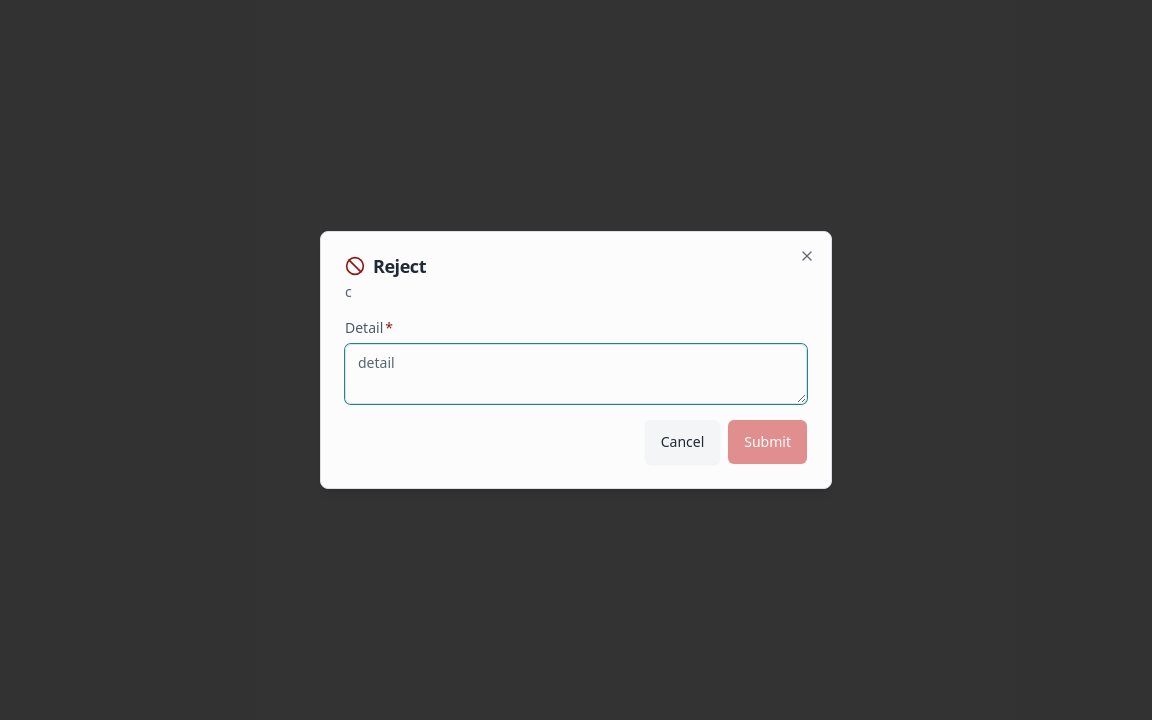
Test: RationaleCaptureDialog › AC1 — custom validators surface their message and block confirm
Type "x" into the text box with placeholder "Detail".
click(576, 374); type("x")  # box [345, 344, 807, 404]
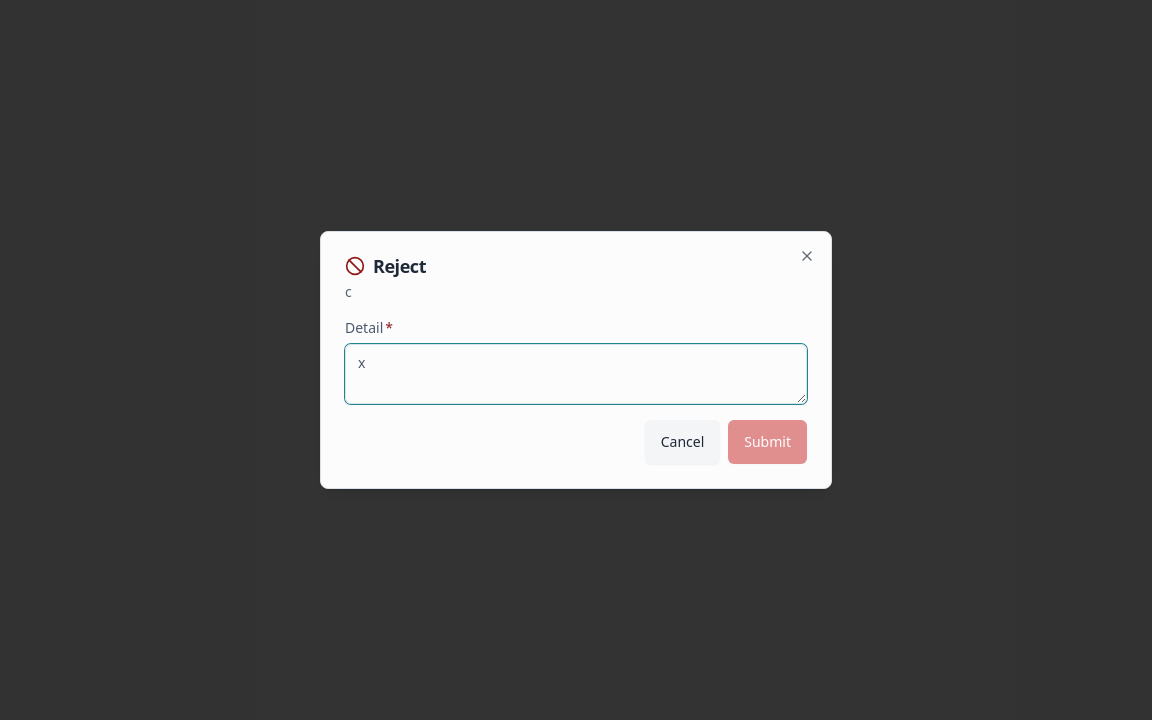
Leave the text box with placeholder "Detail", box [345, 344, 807, 404]
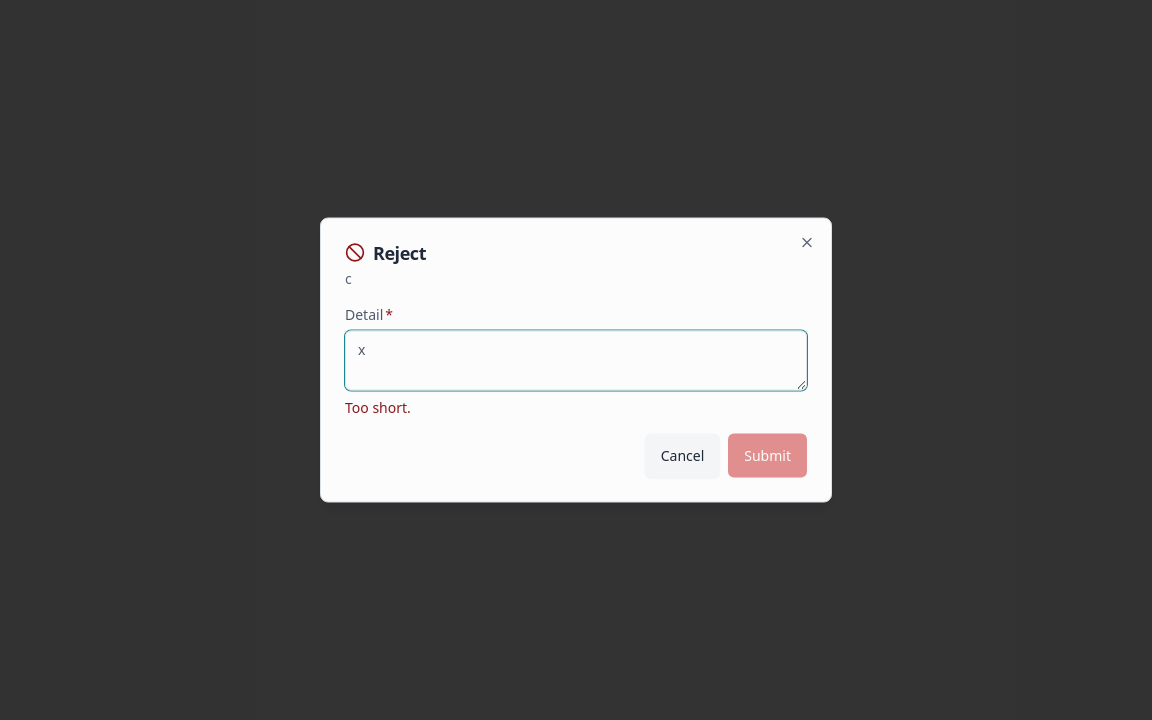
Expected: the button "Submit" is disabled, [728, 434, 807, 478]
Expected: the text "Too short." is shown, [345, 398, 411, 416]
